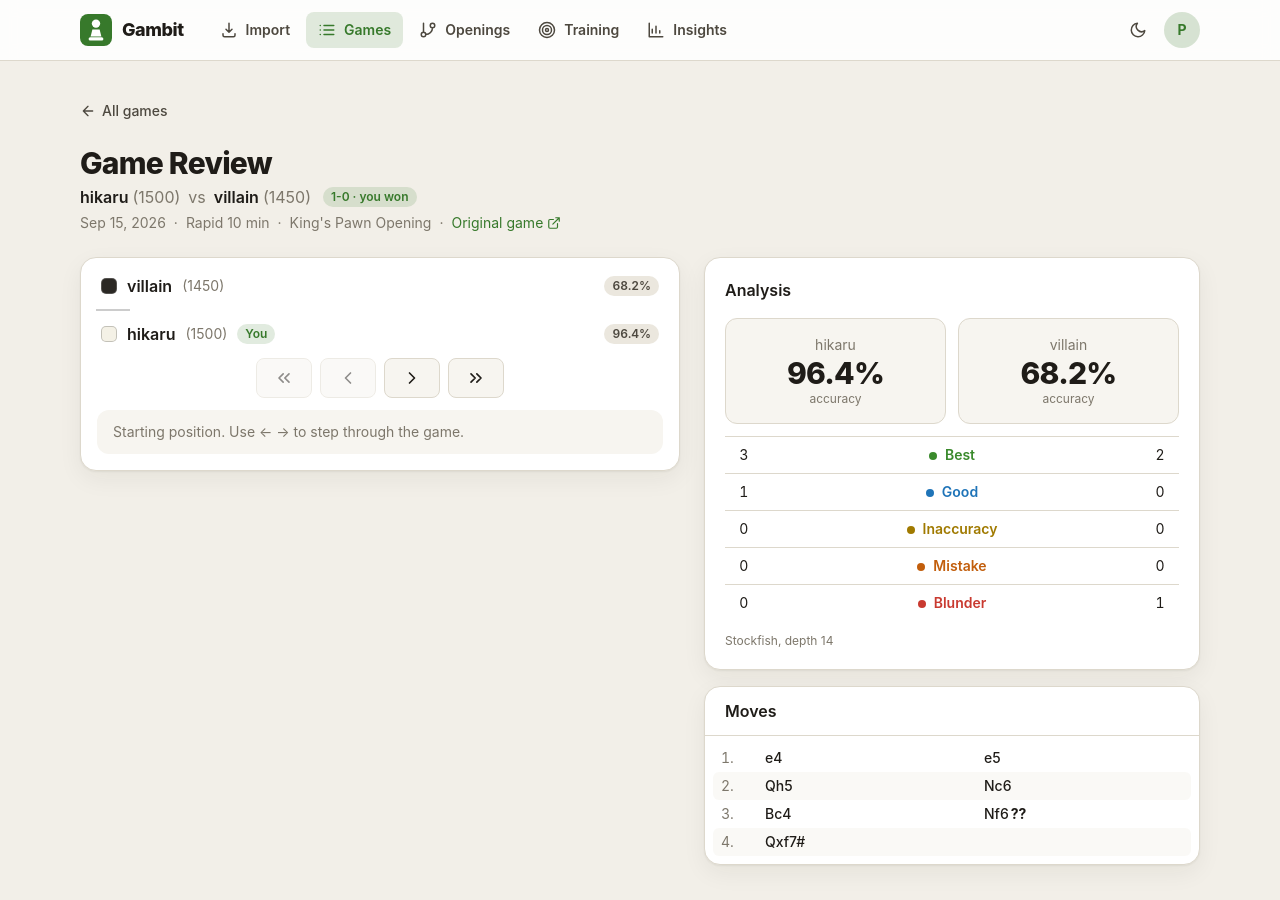
Scenario: after analysis › labels the moves and explains the current one
Click the button with aria-label "Nf6 (Blunder)" at (1084, 814), box [976, 800, 1191, 828]
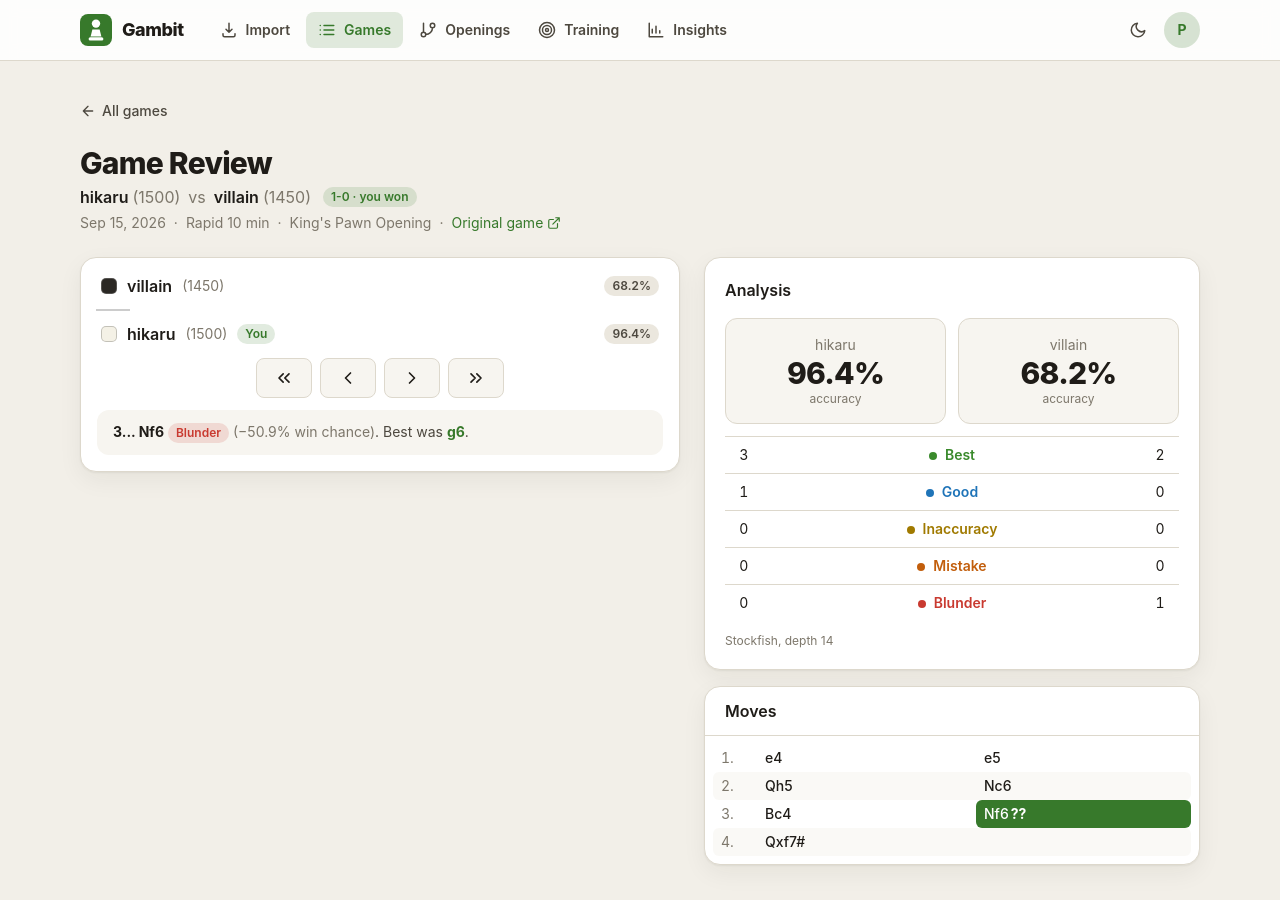
Expected: the text "(−50.9% win chance)" is shown, [229, 423, 375, 440]
Expected: the text "Blunder" is shown, [168, 423, 229, 443]
Expected: the text "g6" is shown, [447, 423, 465, 440]
